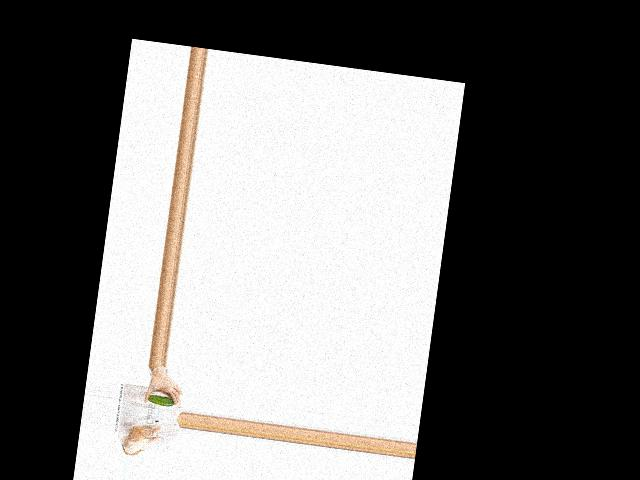cucumber: (146, 393, 174, 406)
